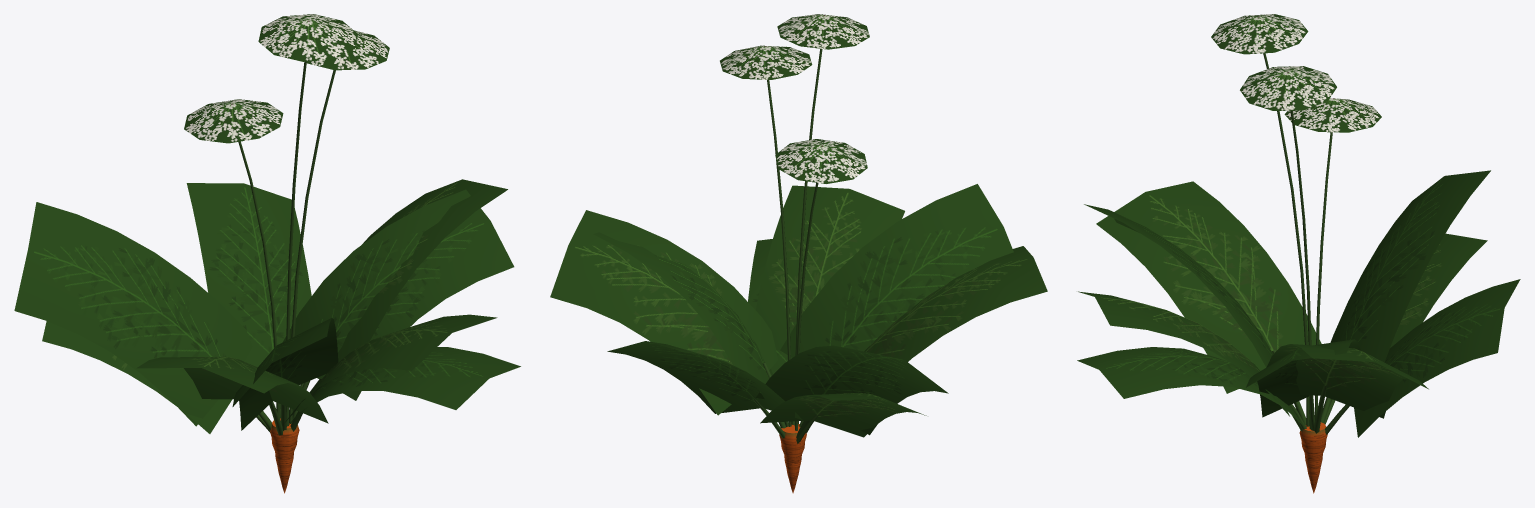
The model's file is CarrotWild.fbx.
The picture shows the model from 3 angles, left to right: view 1: azimuth 30°, elevation 25°; view 2: azimuth 150°, elevation 25°; view 3: azimuth 270°, elevation 25°; orthographic projection. The views are drawn at different scales.
Parts seen in each view (by area): view 1: CarrotWild_LOD0; view 2: CarrotWild_LOD0; view 3: CarrotWild_LOD0.
Part boxes in pixels (x1,y1,x2,y2): CarrotWild_LOD0: (14,14,520,493); CarrotWild_LOD0: (550,14,1047,493); CarrotWild_LOD0: (1077,14,1520,493).
Size of what is drawn, in the model's own units: 0.8515 by 0.911 by 0.7734.
